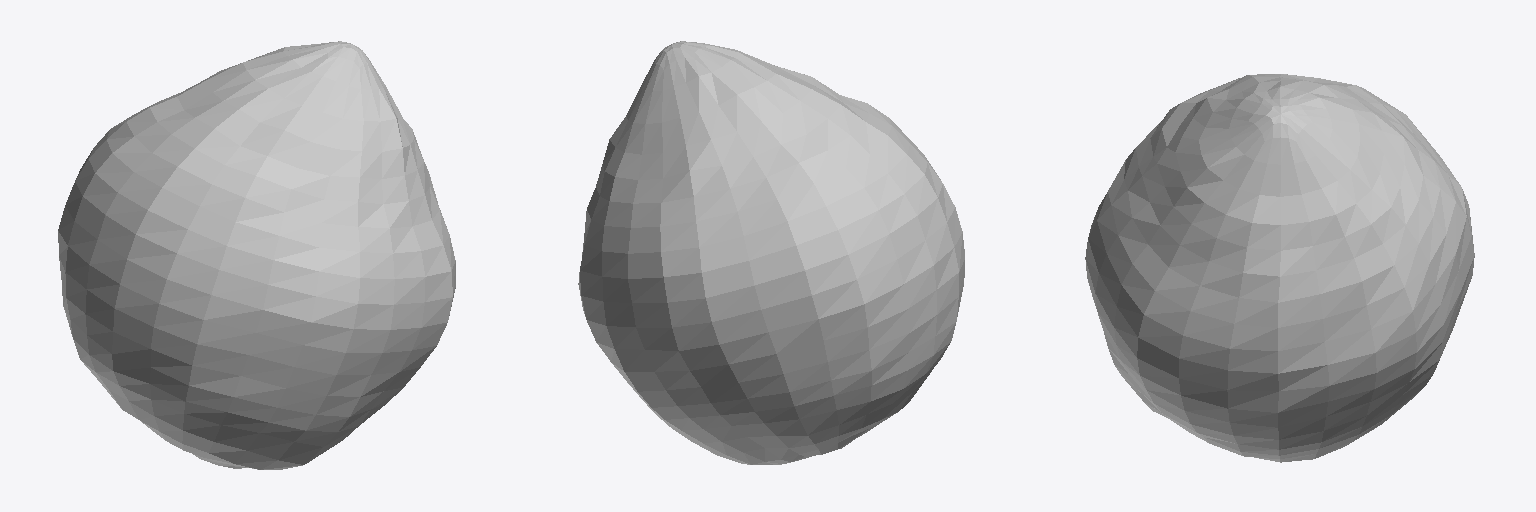
Rendered from hazelnut.obj.
3 views of the same model, side by side, from view 1: azimuth 30°, elevation 25°; view 2: azimuth 150°, elevation 25°; view 3: azimuth 270°, elevation 25° (orthographic).
Visible parts, largest first — view 1: hazelnut; view 2: hazelnut; view 3: hazelnut.
Part boxes in pixels (bbox=[...]): hazelnut: bbox=[58, 41, 455, 469]; hazelnut: bbox=[578, 41, 964, 464]; hazelnut: bbox=[1085, 74, 1474, 462].
Bounding box in the file's own units: 1.68 × 1.81 × 1.67.